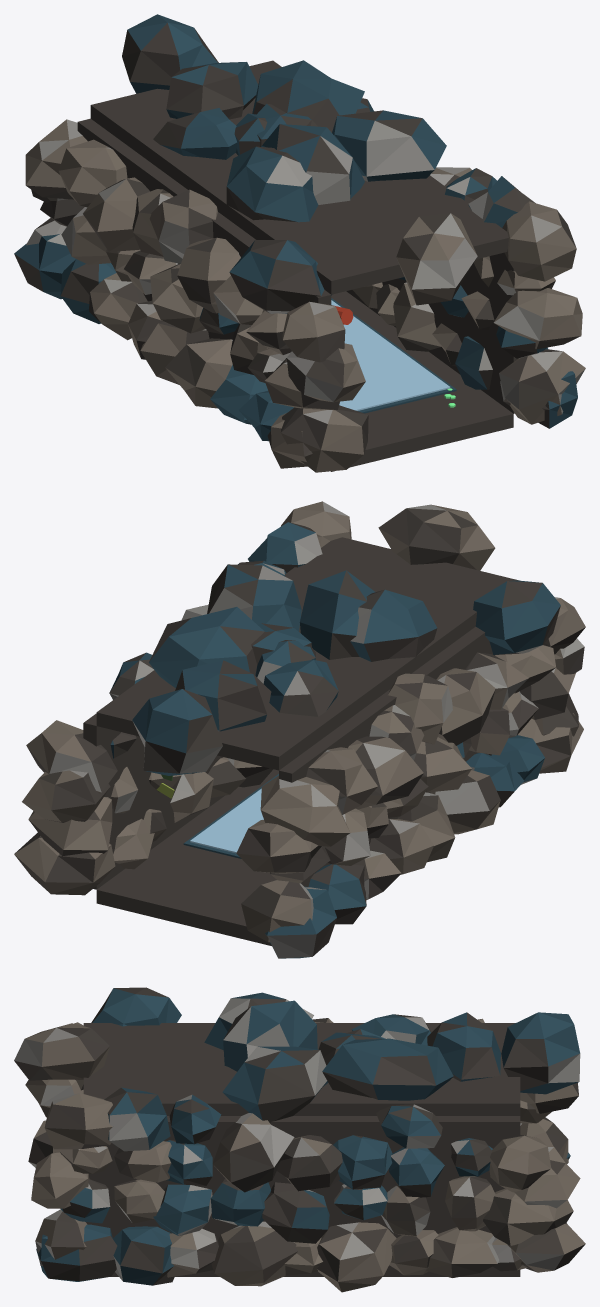
The model's file is Cave_Flooded_Tunnel.fbx.
The picture shows the model from 3 angles, top to bottom: view 1: azimuth 30°, elevation 25°; view 2: azimuth 150°, elevation 25°; view 3: azimuth 270°, elevation 25°; orthographic projection. The views are drawn at different scales.
Parts seen in each view (by area): view 1: Decor, Ceiling1, Floor1, DecorGlass, Wall1, Wall2; view 2: Decor, Ceiling1, Floor1, Wall2, Wall1, DecorGlass; view 3: Decor, Ceiling1, Wall1, Floor1.
Boxes of the visible parts, box(x1,y1,x2,y2) form: Decor: box(14, 14, 585, 472); Ceiling1: box(90, 60, 508, 294); Floor1: box(331, 291, 513, 471); DecorGlass: box(331, 300, 450, 410); Wall1: box(346, 252, 518, 413); Wall2: box(77, 118, 331, 339); Decor: box(14, 501, 585, 958); Ceiling1: box(96, 537, 519, 770); Floor1: box(96, 769, 278, 945); Wall2: box(279, 626, 495, 886); Wall1: box(83, 713, 224, 889); DecorGlass: box(190, 788, 263, 853); Decor: box(14, 987, 585, 1292); Ceiling1: box(83, 1023, 520, 1115); Wall1: box(86, 1116, 520, 1270); Floor1: box(110, 1270, 520, 1276).
Bounding box in the file's own units: 24.53 × 18.31 × 41.92.
